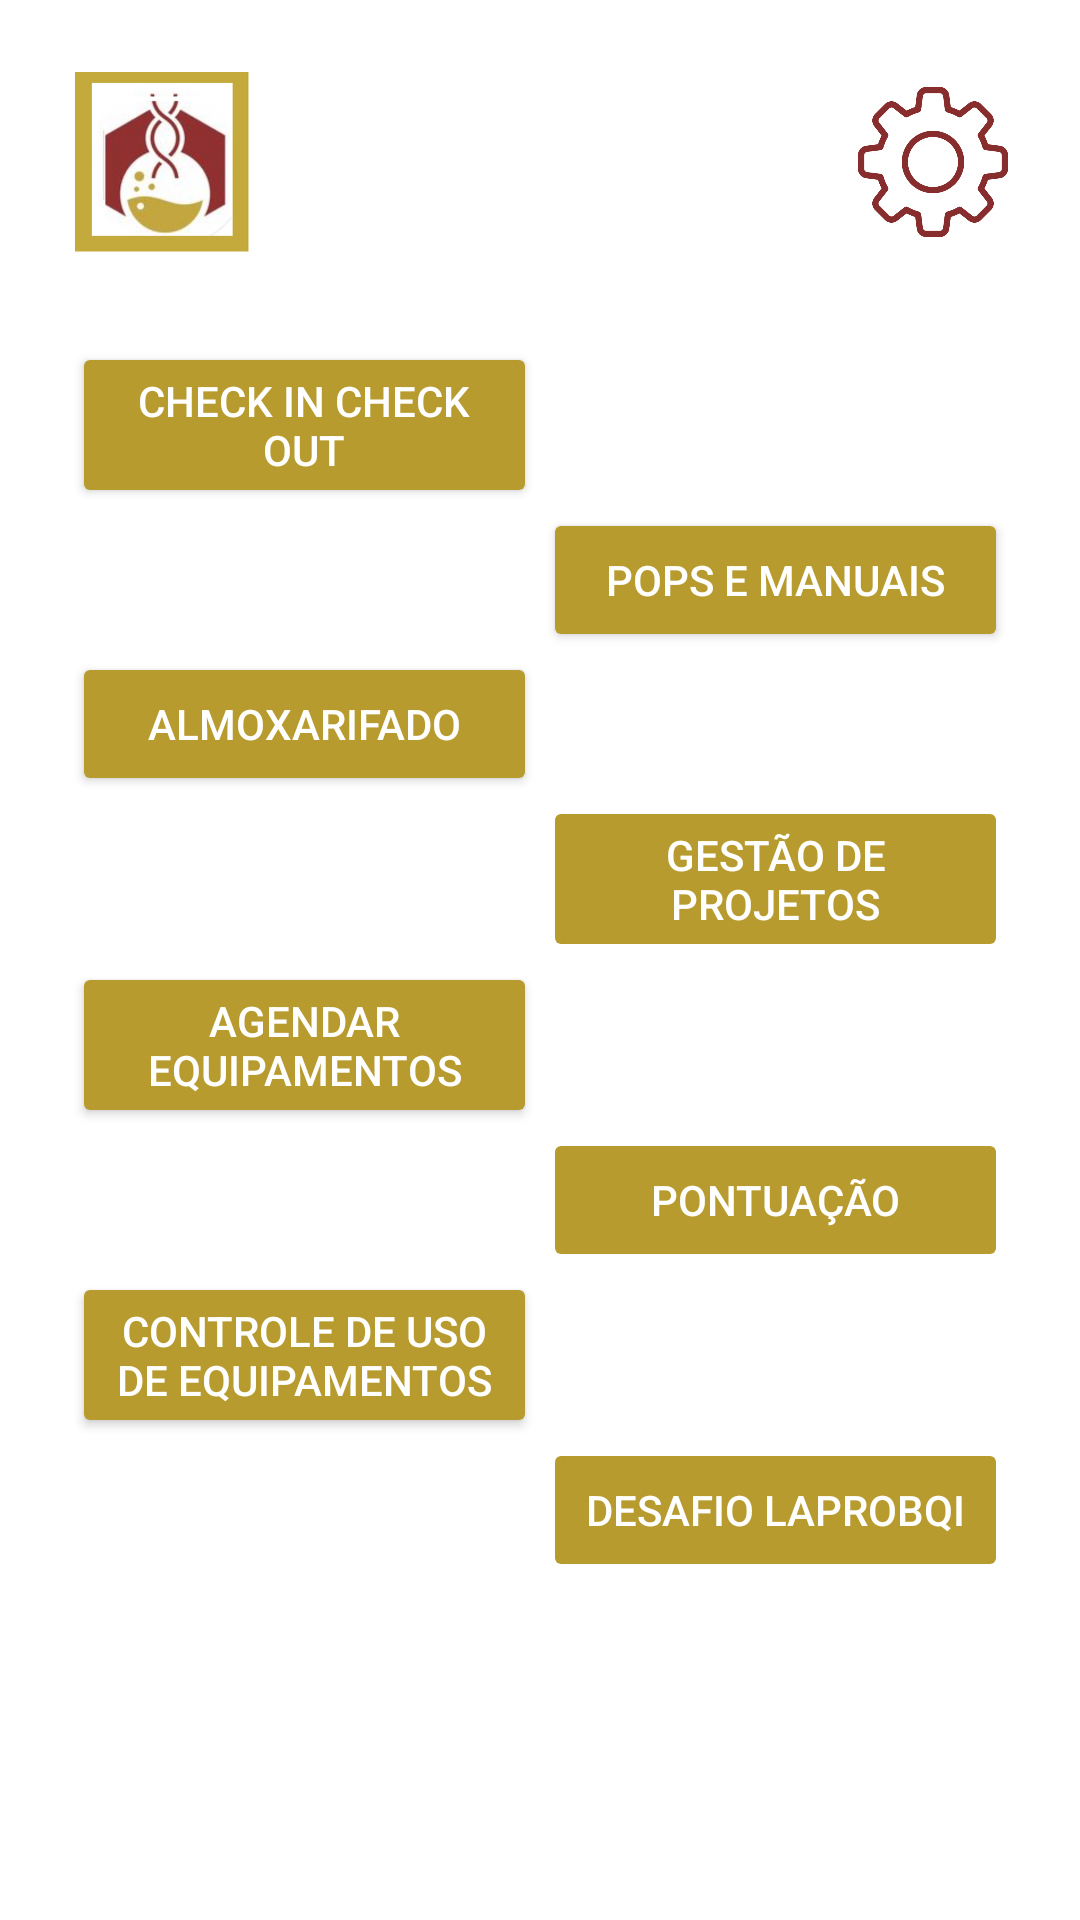

Named icons in this screenshot (1080×1920) and their centers, (x,y):
config: (933,162)
